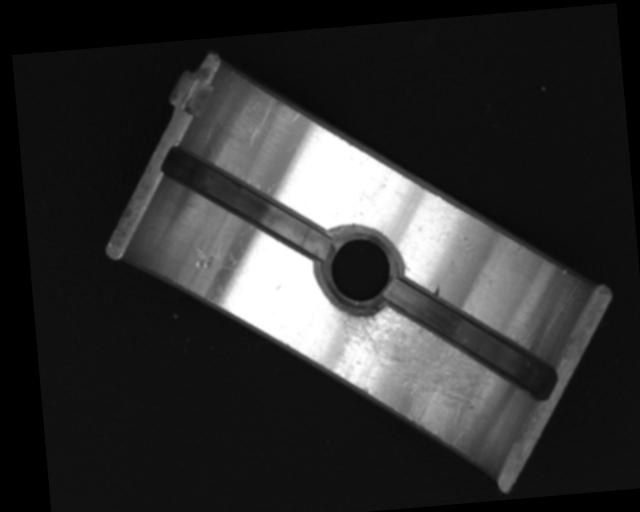bruise: (192, 246, 216, 271), (430, 282, 441, 298)
gap: (382, 266, 558, 411), (162, 135, 329, 271)
hole: (311, 220, 405, 316)
scratch: (327, 286, 494, 453)
